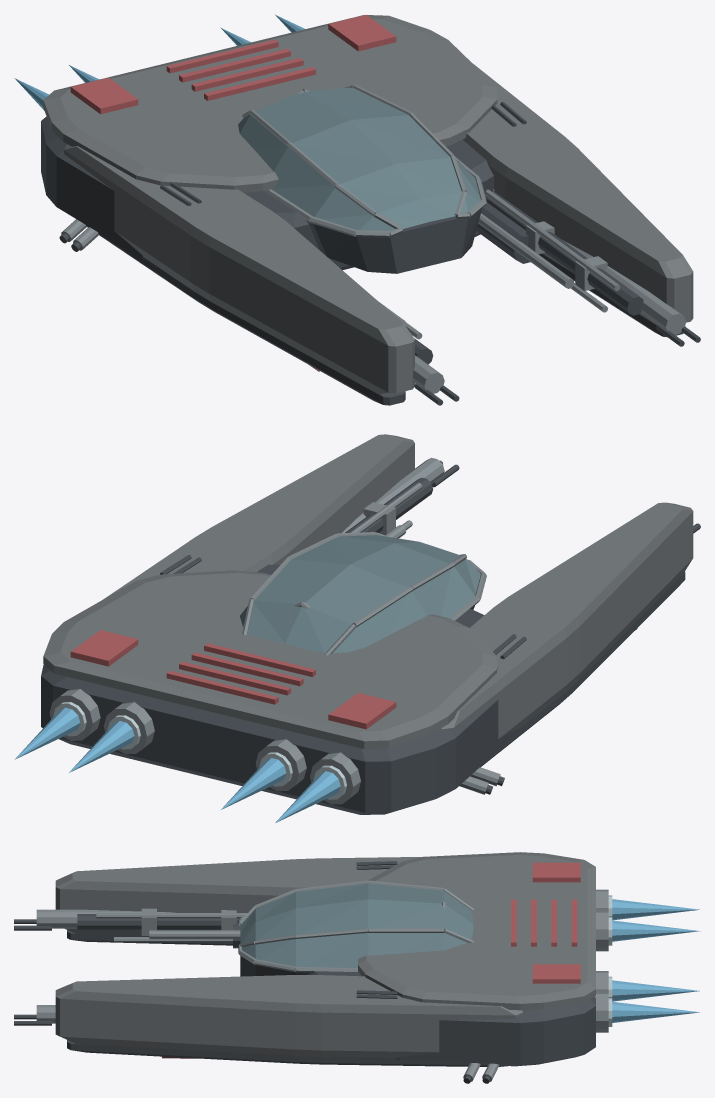
Rendered from x6_graphite_flight.glb.
The picture shows the model from 3 angles, top to bottom: view 1: azimuth 30°, elevation 25°; view 2: azimuth 150°, elevation 25°; view 3: azimuth 270°, elevation 25°; orthographic projection. The views are drawn at different scales.
Visible parts, largest first — view 1: material_1, material_4, material_0, material_2, material_3, material_6; view 2: material_1, material_0, material_4, material_2, material_3, material_6, material_5; view 3: material_1, material_0, material_4, material_2, material_6, material_3, material_5.
Boxes of the visible parts, x1=… form: material_1: x1=43, y1=15, x2=693, y2=394; material_4: x1=238, y1=87, x2=480, y2=230; material_0: x1=41, y1=102, x2=700, y2=405; material_2: x1=61, y1=84, x2=685, y2=393; material_3: x1=70, y1=14, x2=396, y2=371; material_6: x1=14, y1=14, x2=305, y2=110; material_1: x1=43, y1=434, x2=693, y2=749; material_0: x1=41, y1=460, x2=700, y2=814; material_4: x1=240, y1=535, x2=480, y2=653; material_2: x1=49, y1=457, x2=500, y2=804; material_3: x1=70, y1=628, x2=637, y2=729; material_6: x1=14, y1=707, x2=340, y2=822; material_5: x1=53, y1=702, x2=346, y2=799; material_1: x1=55, y1=852, x2=595, y2=1057; material_0: x1=14, y1=861, x2=595, y2=1083; material_4: x1=240, y1=883, x2=473, y2=968; material_2: x1=36, y1=880, x2=608, y2=1081; material_6: x1=612, y1=899, x2=700, y2=1022; material_3: x1=162, y1=862, x2=580, y2=1058; material_5: x1=608, y1=895, x2=612, y2=1026.
Size of the model in its own units: 3.18 by 0.8789 by 5.43.
